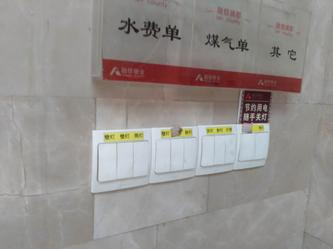switch: (98, 140, 116, 183), (116, 141, 134, 179), (134, 138, 149, 178), (155, 137, 171, 172), (170, 138, 184, 171), (184, 137, 198, 169), (241, 132, 256, 161), (202, 135, 214, 167), (224, 133, 236, 165), (255, 131, 268, 160), (213, 135, 225, 165)
